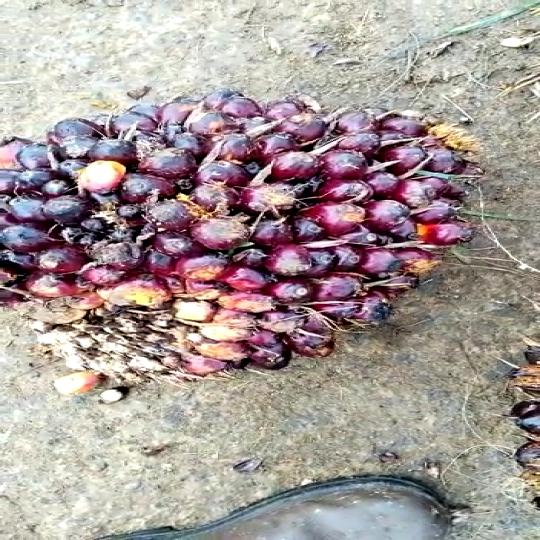mentah: (0, 87, 485, 376)
